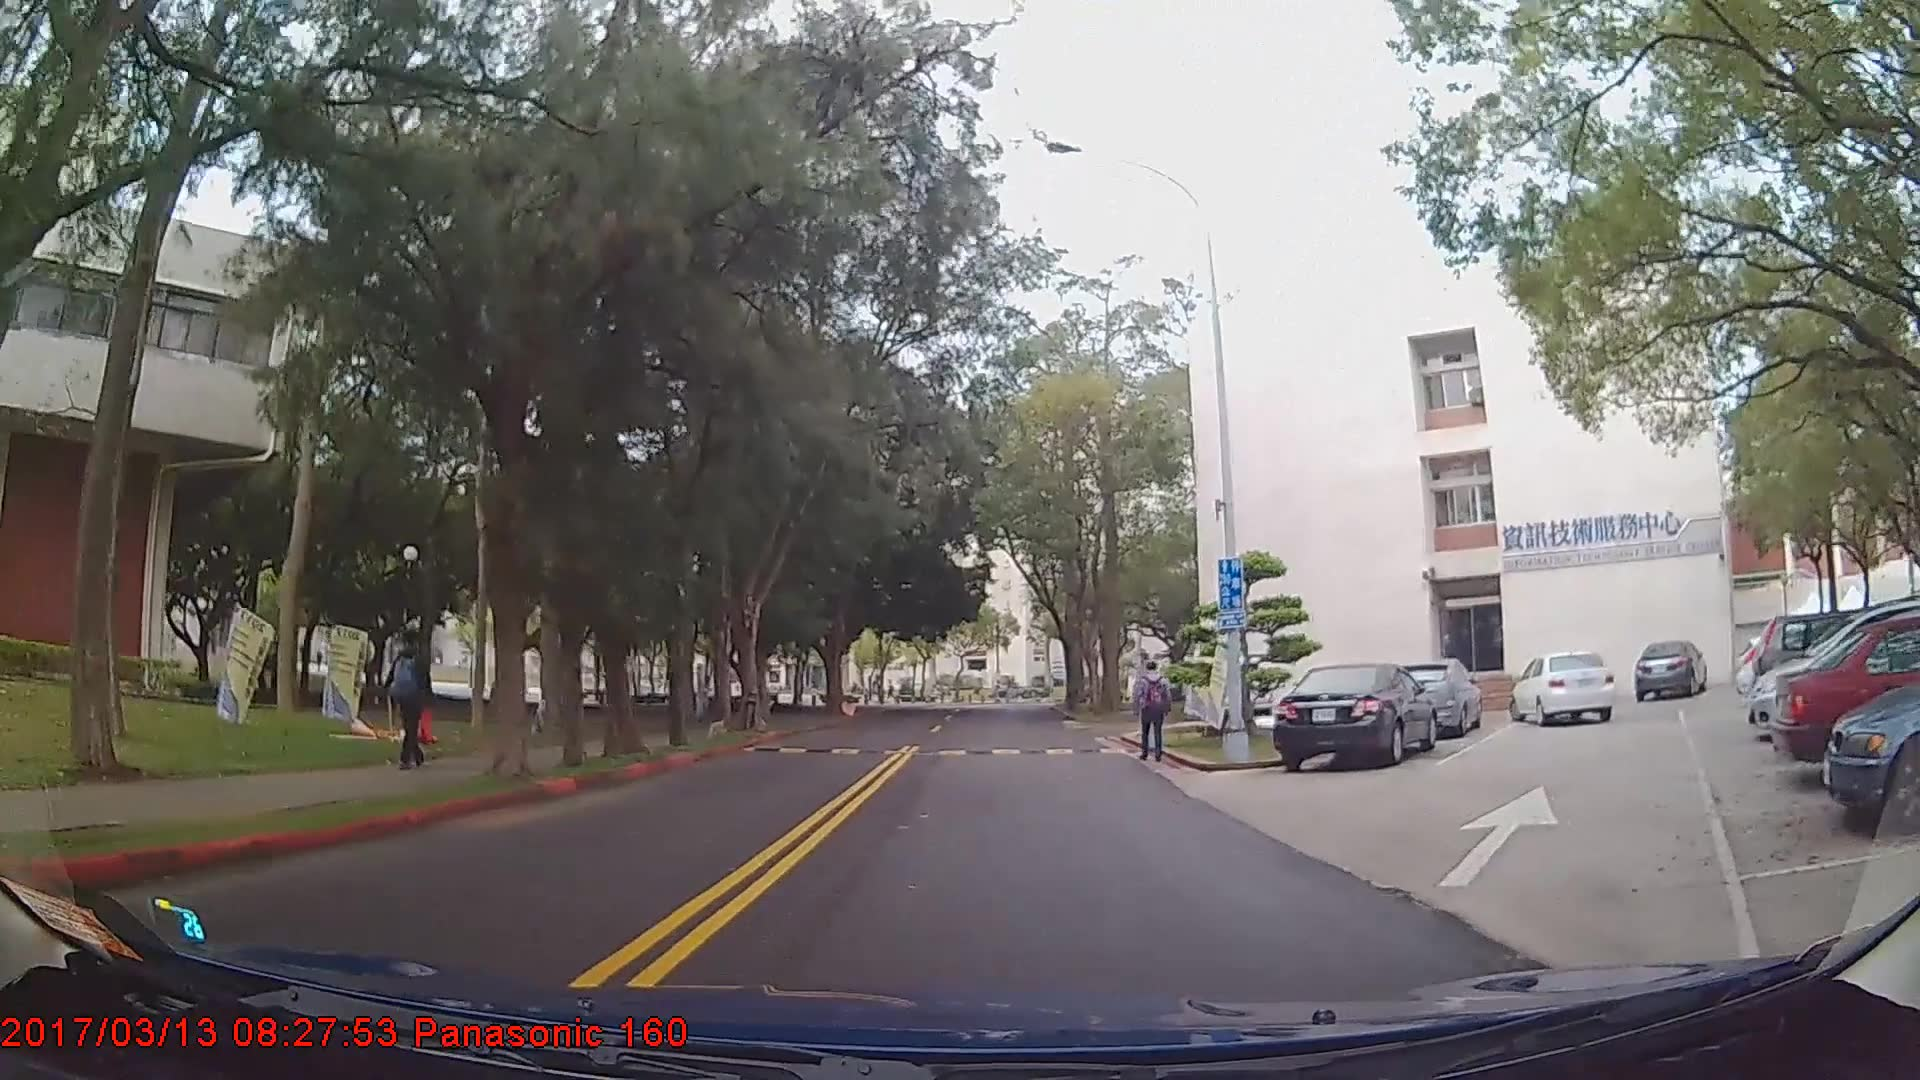pedestrian: (385, 639, 434, 780), (1139, 661, 1177, 770)
vehicle: (1771, 613, 1920, 788), (1271, 662, 1435, 771), (1386, 656, 1485, 737), (1510, 650, 1616, 727), (1634, 636, 1709, 700)
